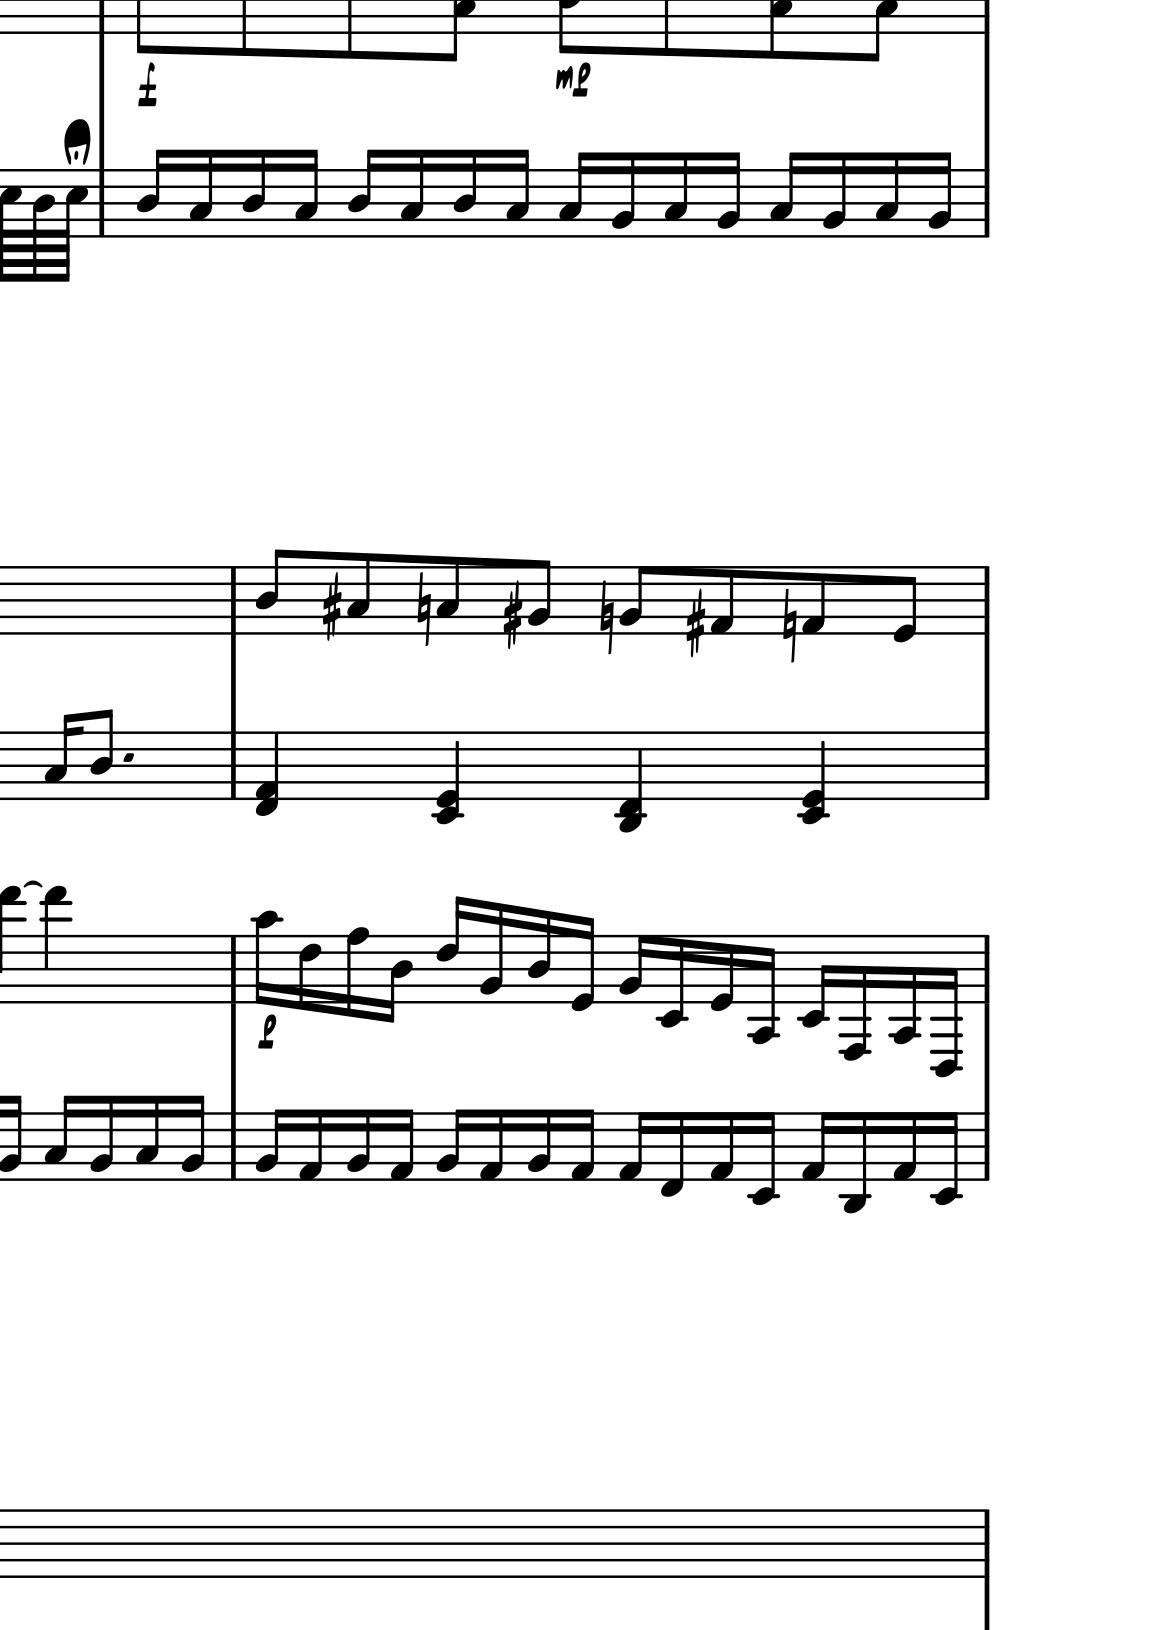16_-1: (660, 1110, 684, 1199)
16_-2: (799, 933, 832, 1031), (657, 933, 686, 1031), (748, 1110, 777, 1206), (933, 1109, 960, 1206)
16_-3: (840, 1109, 870, 1216)
16_-4: (746, 933, 779, 1049), (891, 933, 921, 1046)
16_-6: (837, 932, 871, 1064)
16_-8: (930, 933, 966, 1078)
16_0: (569, 913, 596, 1014), (708, 933, 736, 1014)
16_1: (616, 1110, 650, 1185), (800, 1110, 832, 1184), (386, 1107, 415, 1184), (295, 1107, 324, 1183), (478, 1107, 505, 1184), (569, 1107, 596, 1184), (708, 1109, 736, 1183), (891, 1109, 918, 1183)
16_10: (251, 910, 282, 1008)
16_2: (478, 900, 505, 1004), (608, 150, 637, 241), (252, 1107, 286, 1183), (434, 1108, 468, 1183), (714, 150, 742, 241), (820, 150, 848, 241), (926, 150, 954, 241), (87, 1093, 115, 1183), (178, 1093, 206, 1183), (617, 933, 648, 1006), (525, 1108, 552, 1181), (345, 1107, 372, 1183), (1, 1093, 22, 1183)
16_3: (41, 712, 82, 801), (556, 150, 591, 239), (41, 1093, 76, 1183), (767, 150, 802, 238), (396, 147, 426, 241), (871, 150, 901, 241), (186, 147, 214, 241), (290, 147, 319, 241), (661, 150, 689, 241), (502, 147, 530, 241), (133, 1093, 160, 1183)
16_4: (133, 146, 168, 239), (345, 146, 379, 239), (525, 907, 554, 1004), (382, 933, 411, 1026), (239, 147, 268, 241), (451, 147, 479, 241)
16_6: (434, 894, 468, 1004), (295, 933, 320, 1013)
16_8: (343, 926, 370, 1021)
4_-1_1: (254, 730, 282, 816)
4_-2_0: (430, 732, 468, 826), (795, 730, 832, 825)
4_-3_-1: (613, 730, 648, 832)
4_13: (41, 886, 69, 1006)
64_4: (30, 169, 54, 284)
64_5: (56, 168, 87, 285), (1, 167, 21, 283)
8_0: (889, 565, 919, 646)
8_1: (709, 565, 736, 637), (800, 565, 827, 637)
8_2: (618, 565, 650, 636), (526, 557, 552, 636)
8_3: (862, 1, 900, 65), (345, 551, 372, 637), (435, 555, 461, 637)
8_4: (254, 547, 286, 636), (89, 707, 113, 803)
Natural: (413, 570, 431, 649), (596, 578, 615, 655), (780, 588, 798, 663)
Sharp: (319, 574, 342, 644), (683, 592, 706, 659), (500, 586, 522, 651)
Single_barline: (974, 732, 995, 800), (976, 1113, 995, 1183), (976, 169, 995, 238), (224, 732, 243, 800), (976, 567, 995, 634), (224, 936, 243, 1003), (224, 1112, 242, 1183), (224, 568, 243, 634), (976, 1510, 995, 1576), (977, 936, 995, 1004), (92, 169, 110, 237)
dot: (118, 750, 136, 766)
f: (135, 61, 160, 108)
mp: (552, 61, 593, 98)
p: (256, 1013, 278, 1053)
